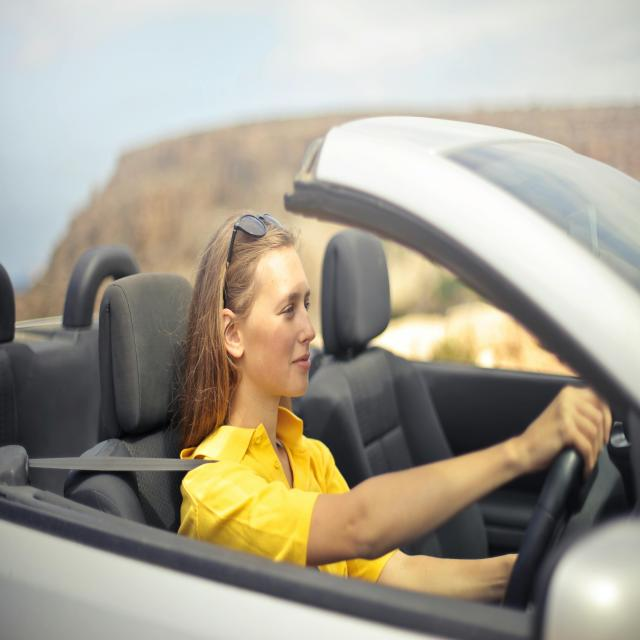sit: (201, 228, 603, 620)
